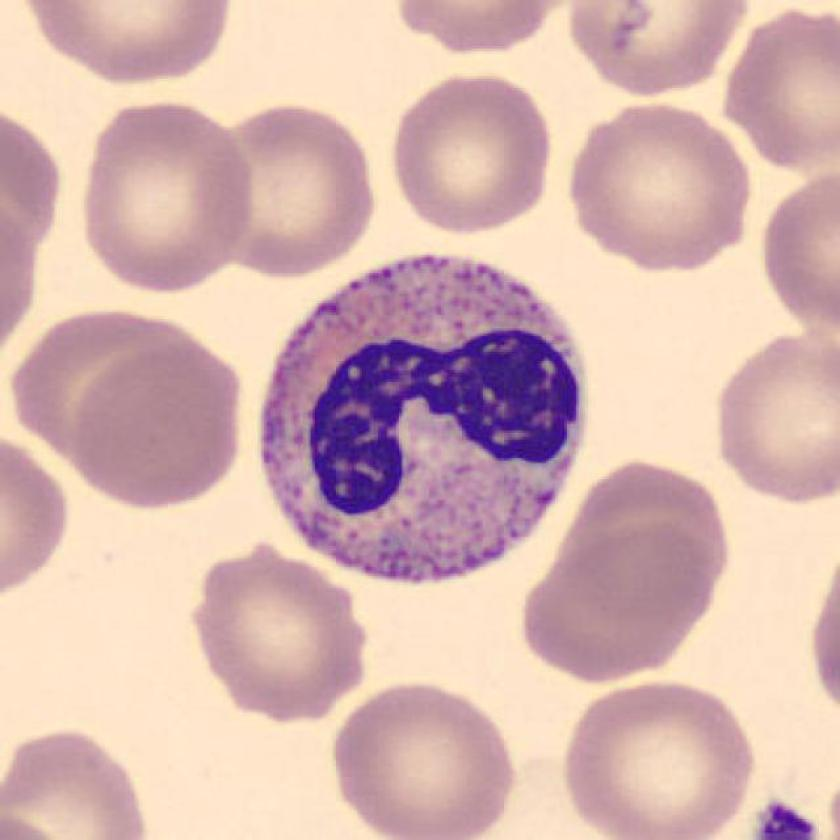neutrophil: (265, 256, 582, 585)
